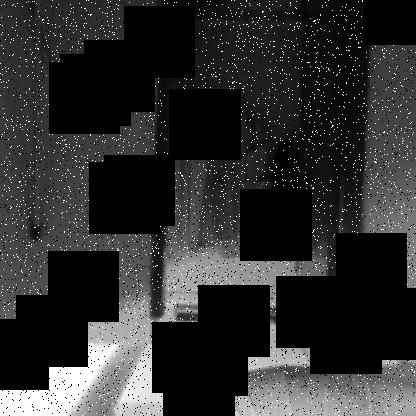Porte: (149, 1, 373, 329)
